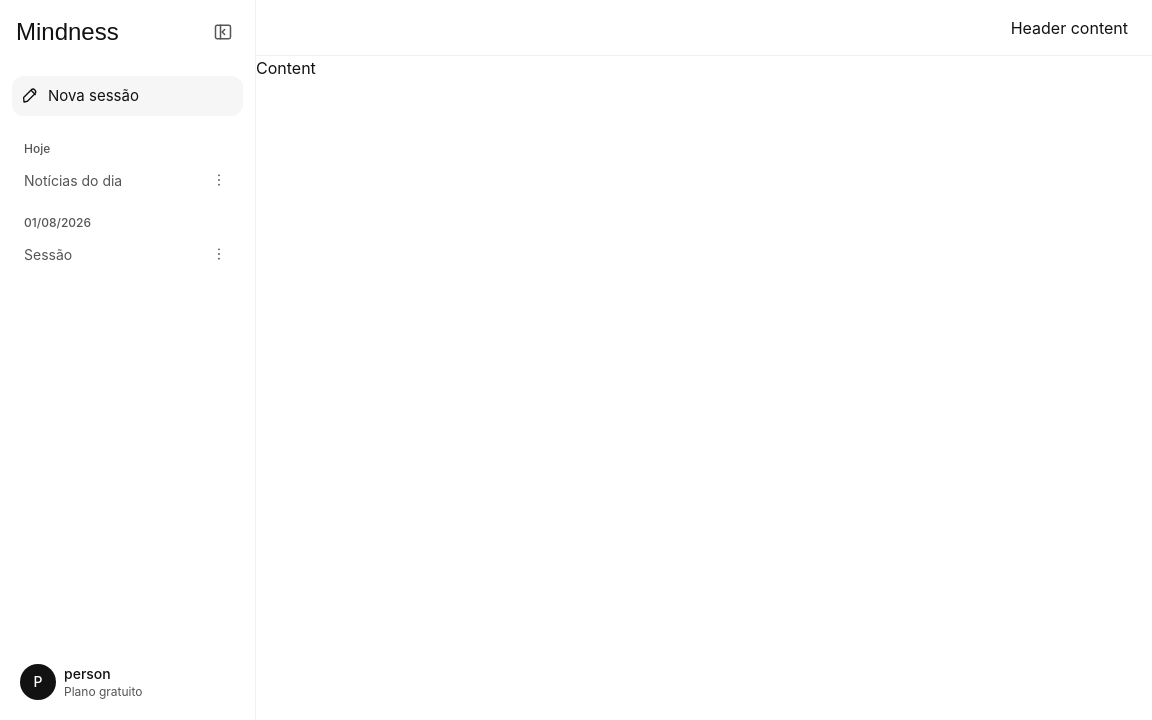
Test: AuthenticatedShell › asks for confirmation before deleting a session
Click the button named "Ações de Notícias do dia" at (219, 180), box top-left (205, 166), bottom-right (233, 194)
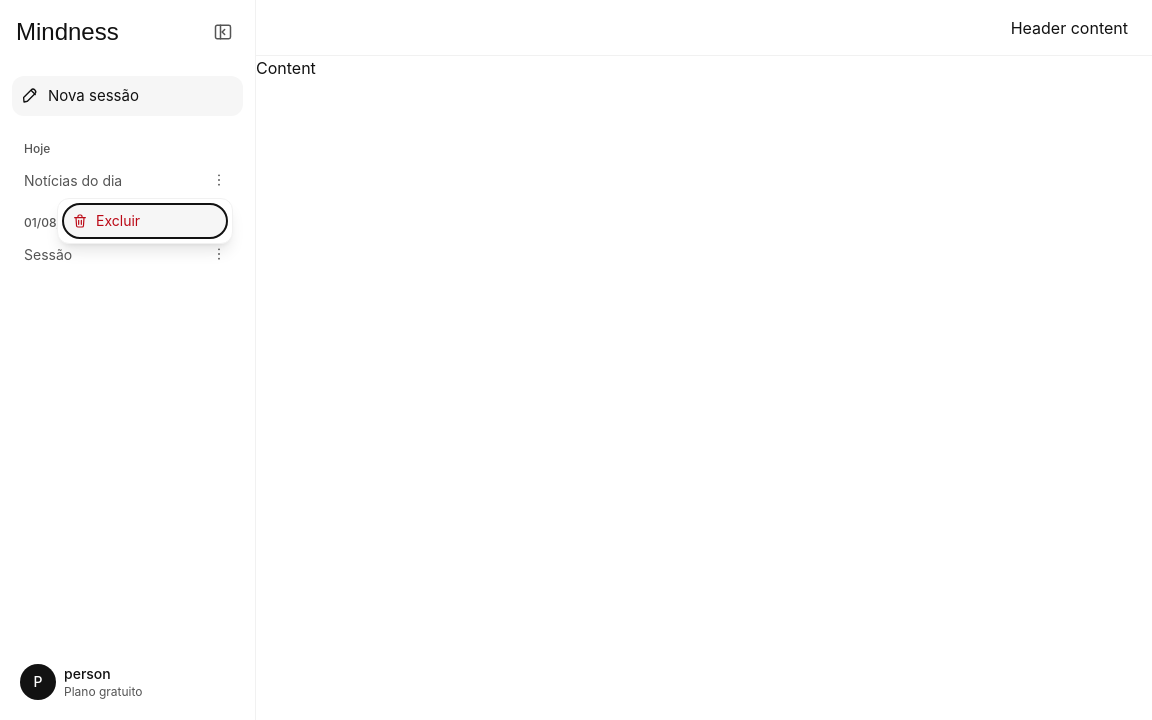
Click the menu item "Excluir" at (145, 221), box top-left (62, 203), bottom-right (228, 239)
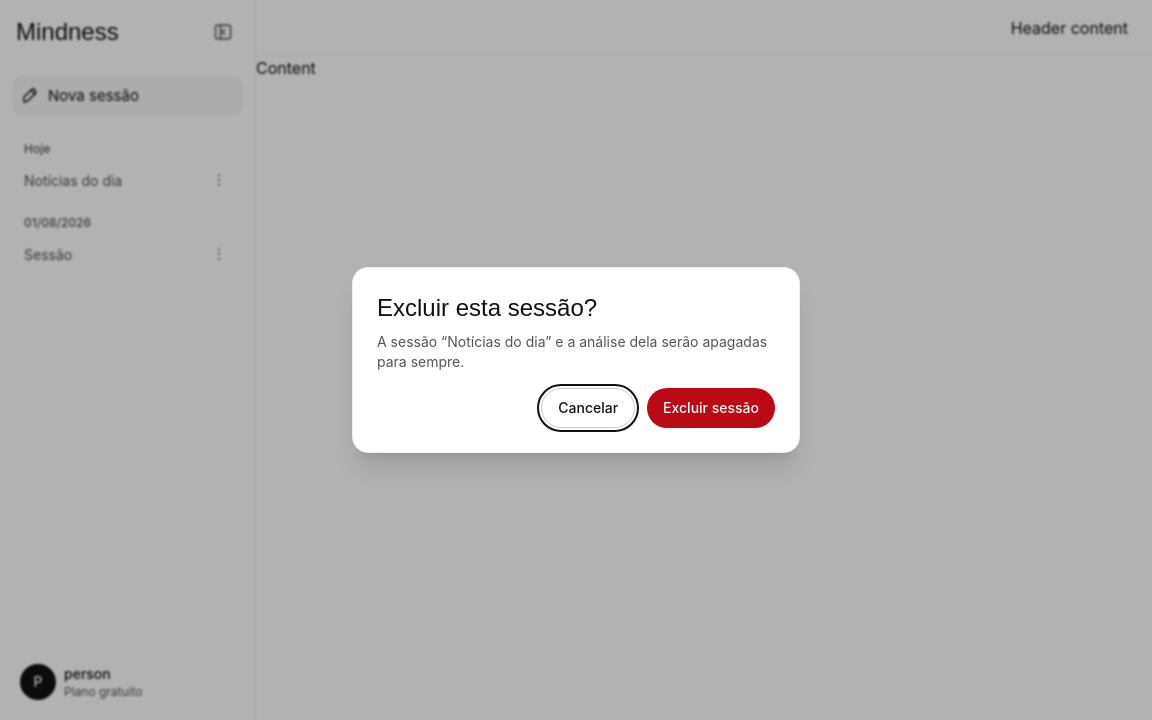
Now the dialog "Excluir esta sessão?" shows "Notícias do dia", box top-left (377, 333), bottom-right (767, 370)
